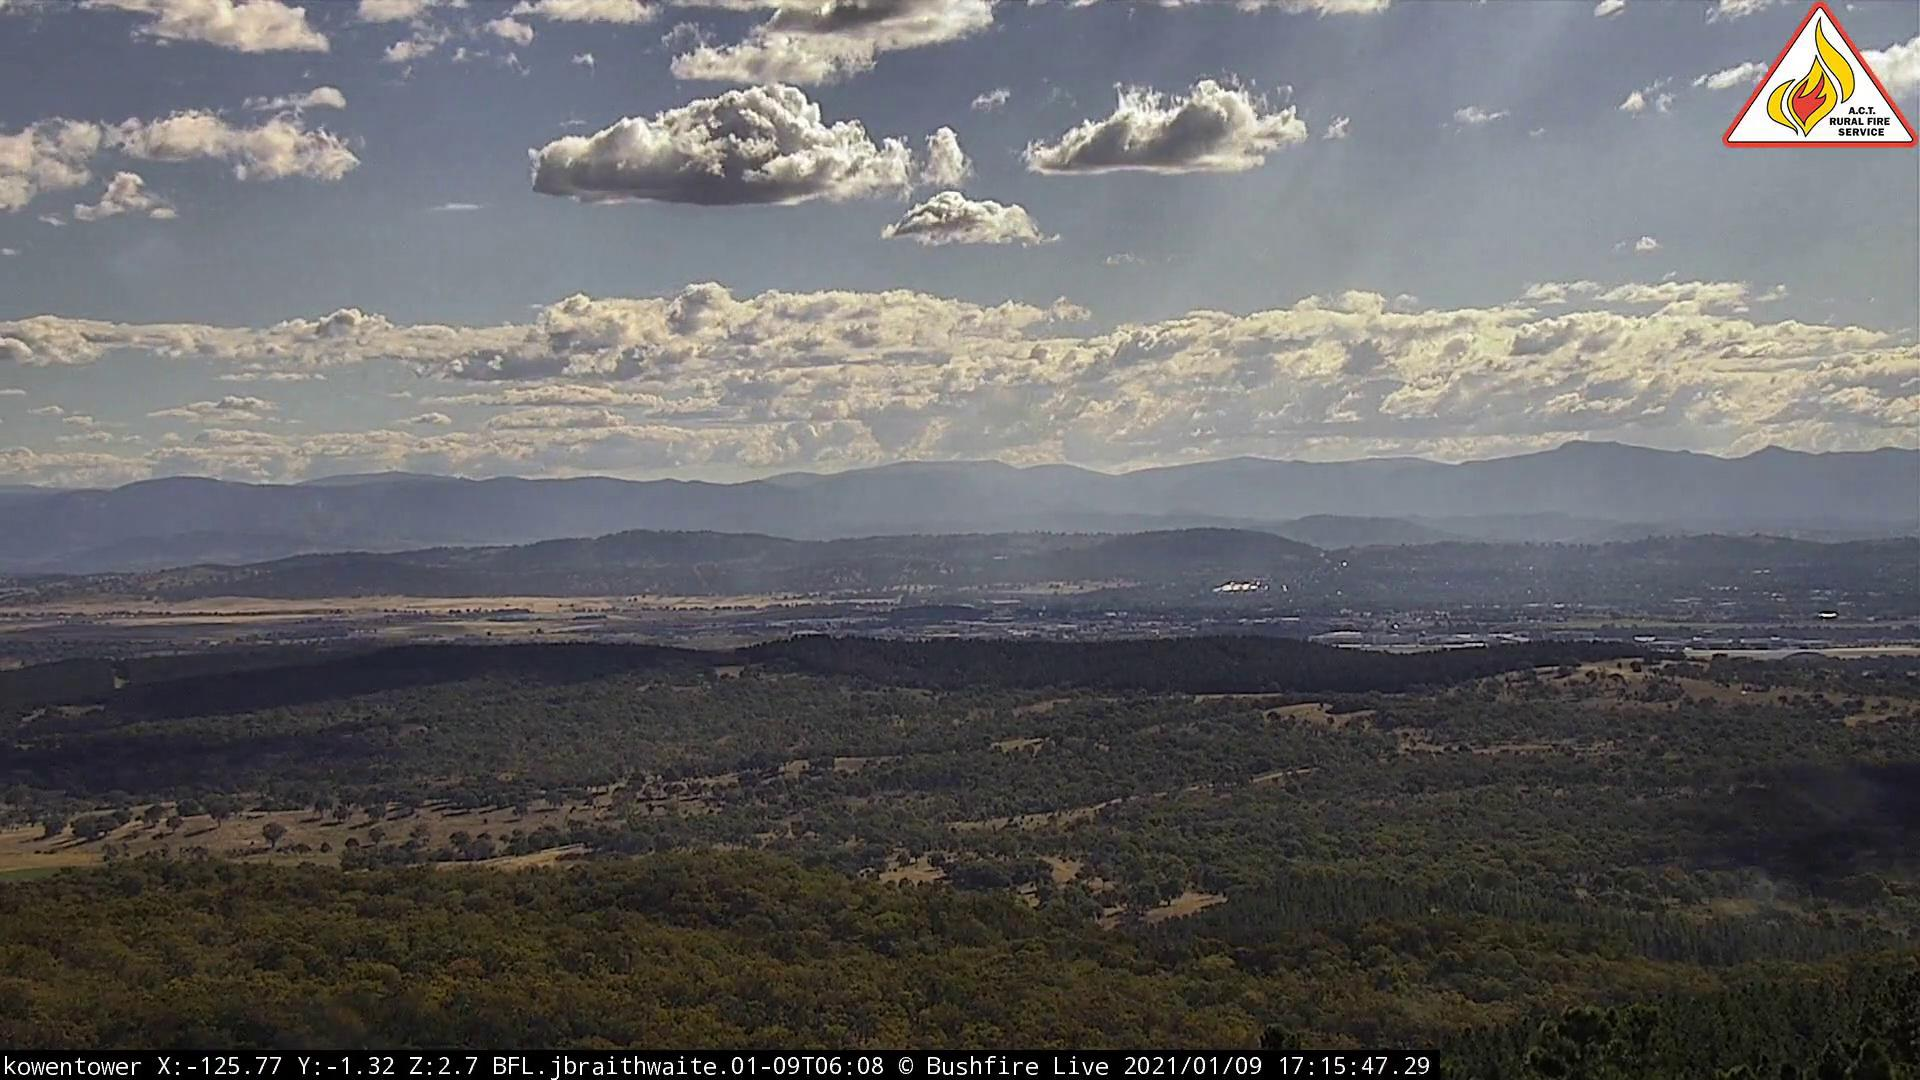Smoke: (876, 524, 1004, 605)
